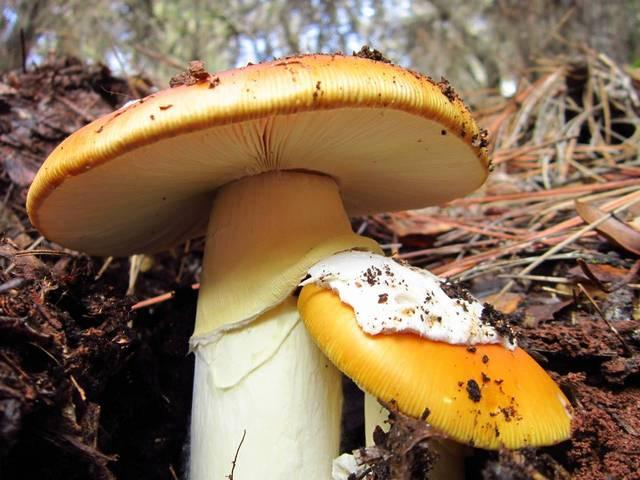Edible Mushroom: (24, 49, 571, 478), (295, 247, 574, 477)
